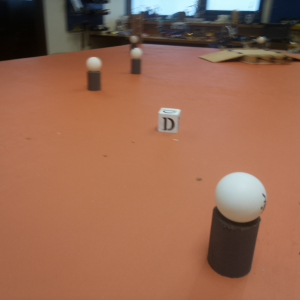blockD: (156, 107, 182, 135)
obstacle: (206, 173, 267, 277), (85, 56, 103, 94), (131, 48, 142, 72)
side: (244, 54, 291, 65)
slope: (200, 50, 241, 64)
